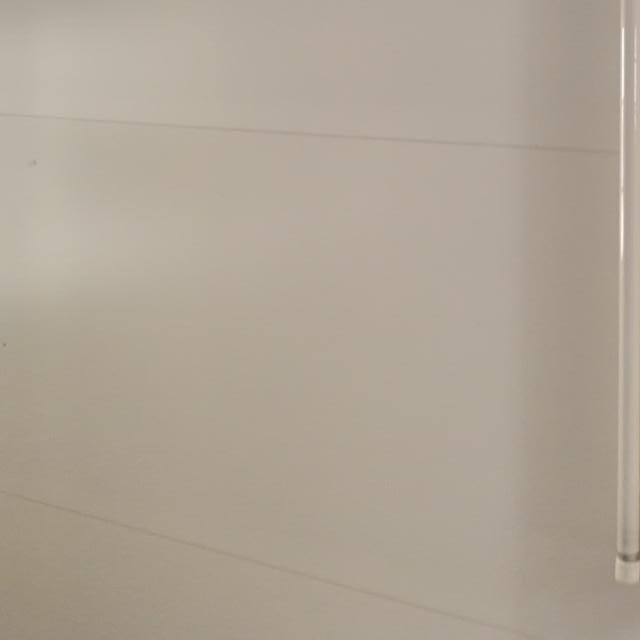fluorescent tube: (553, 0, 640, 605)
